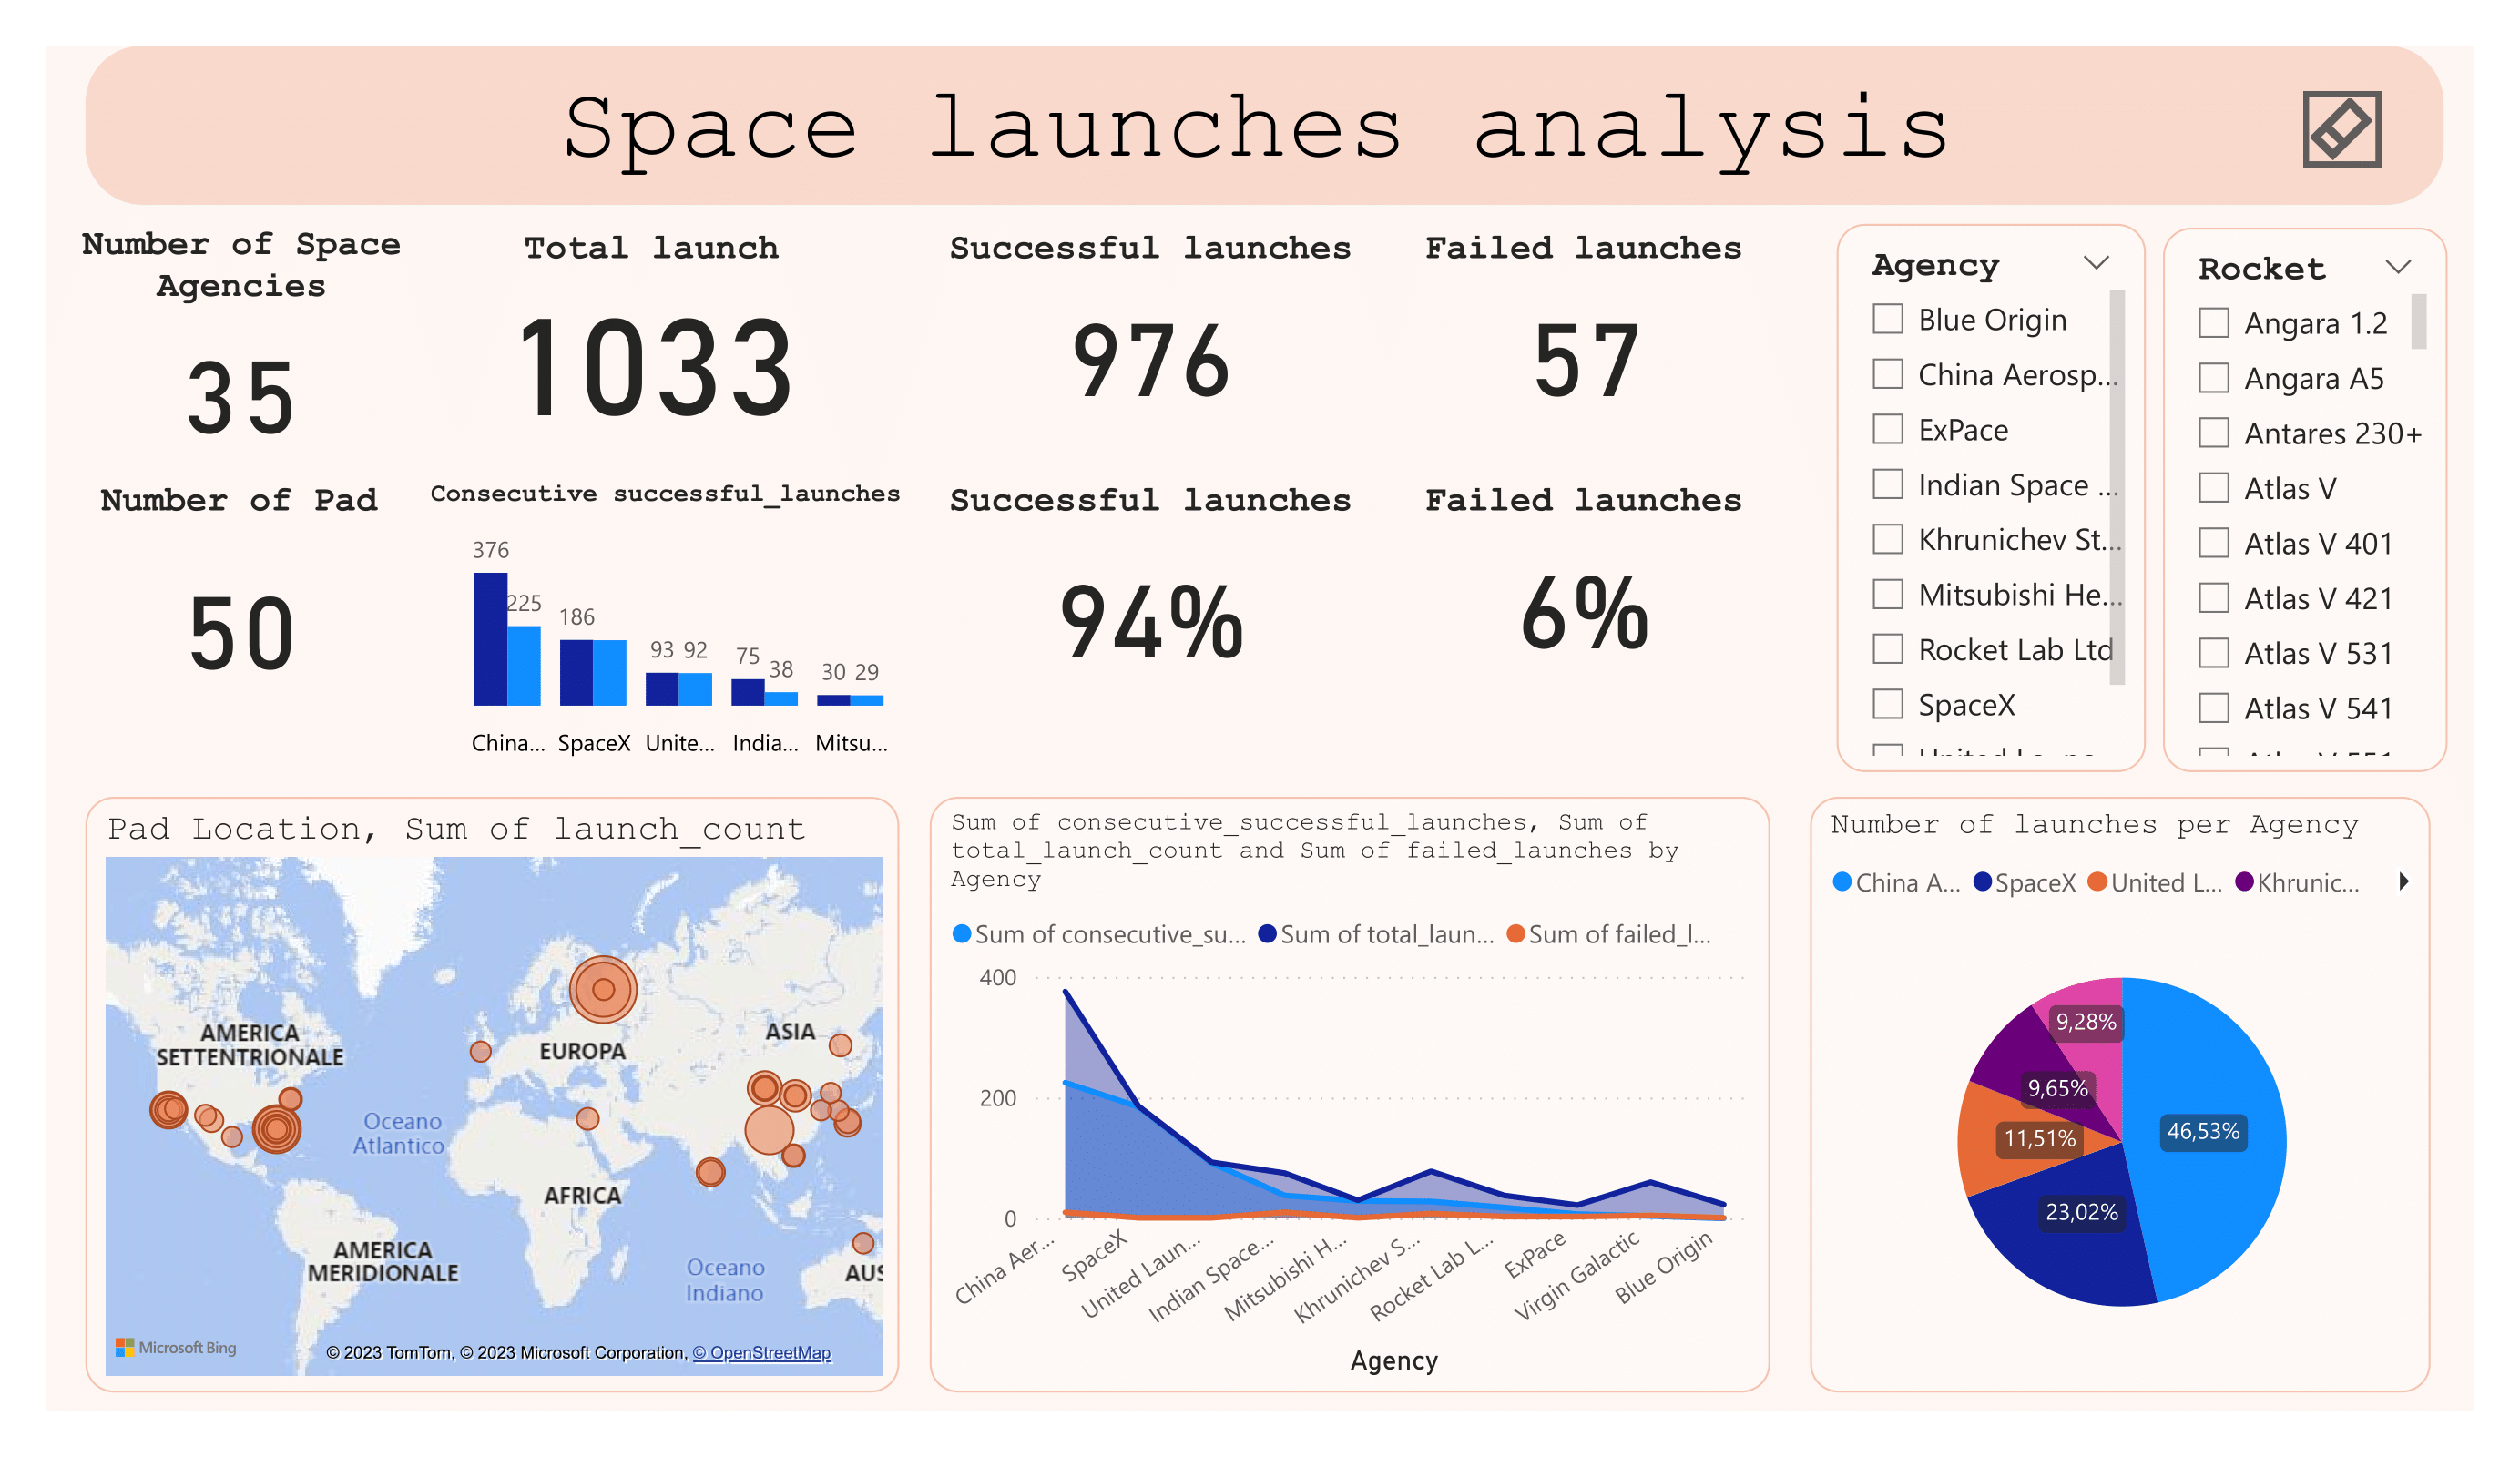

What the dashboard file says about the page in this screenshot:
{"tool":"powerbi","page":{"name":"Overview","canvas":[1280,720],"ordinal":0},"visuals":[{"type":"image","box":[1,0,1279,720],"z":0},{"type":"textbox","box":[220,15.7,840,70],"z":1000},{"type":"card","title":"Number of Space Agencies ","fields":{"Values":["Count(dm_agency.id)"]},"box":[1.4,114.3,201.4,127.1],"z":2000},{"type":"card","title":"Number of Pad","fields":{"Values":["CountNonNull(dm_pad.id)"]},"box":[1.4,241.4,201.4,127.1],"z":3000},{"type":"card","title":"Total launch","fields":{"Values":["Sum(dm_rocket.total_launch_count)"]},"box":[202.9,114.3,232.9,105.7],"z":4000},{"type":"card","title":"Successful launches","fields":{"Values":["Sum(dm_rocket.successful_launches)"]},"box":[465.7,114.3,232.9,105.7],"z":5000},{"type":"card","title":"Failed launches","fields":{"Values":["Sum(dm_rocket.failed_launches)"]},"box":[712.9,114.3,195.7,105.7],"z":6000},{"type":"slicer","fields":{"Values":["dm_rocket.family"]},"box":[1110,114.3,148.6,245.7],"z":7000},{"type":"slicer","fields":{"Values":["dm_agency.name"]},"box":[931.4,114.3,162.9,245.7],"z":8000},{"type":"card","title":"Successful launches","fields":{"Values":["dm_rocket.% Successful launches"]},"box":[465.7,237.1,232.9,114.3],"z":9000},{"type":"card","title":"Failed launches","fields":{"Values":["dm_rocket.% Failed launches"]},"box":[712.9,241.4,195.7,105.7],"z":10000},{"type":"areaChart","fields":{"Y":["Sum(KPI_For_Family.consecutive_successful_launches)","Sum(KPI_For_Family.total_launch_count)","Sum(KPI_For_Family.failed_launches)"],"Category":["dm_agency.name"]},"box":[465.7,395.7,442.9,314.3],"z":11000},{"type":"pieChart","title":"Number of launches per Agency","fields":{"Category":["dm_agency.name"],"Y":["Sum(dm_rocket.total_launch_count)"]},"box":[930,395.7,327.1,314.3],"z":12000},{"type":"map","title":"Pad Location, Sum of launch_count","fields":{"Y":["dm_pad.latitude"],"X":["dm_pad.longitude"],"Size":["Sum(dm_pad.total_launch_count)"]},"box":[20,395.7,428.6,314.3],"z":13000},{"type":"clusteredColumnChart","title":"Consecutive successful_launches","fields":{"Y":["Sum(dm_rocket.total_launch_count)","Sum(dm_rocket.consecutive_successful_launches)"],"Category":["dm_agency.name"]},"box":[202.9,237.1,262.9,144.3],"z":14000},{"type":"actionButton","box":[1218.7,29.3,39.1,40.3],"z":15000}]}

Visuals, with their boxes in screenshot pixels (x1, y1, x2, y2):
image: bbox(47, 46, 2474, 1411)
textbox: bbox(463, 76, 2057, 209)
"Number of Space Agencies " card: bbox(48, 262, 431, 504)
"Number of Pad" card: bbox(48, 504, 431, 745)
"Total launch" card: bbox(431, 262, 872, 463)
"Successful launches" card: bbox(929, 262, 1372, 463)
"Failed launches" card: bbox(1398, 262, 1770, 463)
slicer - dm_rocket.family: bbox(2152, 262, 2433, 728)
slicer - dm_agency.name: bbox(1813, 262, 2122, 728)
"Successful launches" card: bbox(929, 495, 1372, 712)
"Failed launches" card: bbox(1398, 504, 1770, 704)
areaChart - Sum(KPI_For_Family.consecutive_successful_launches) x Sum(KPI_For_Family.total_launch_count): bbox(929, 796, 1770, 1392)
"Number of launches per Agency" pieChart: bbox(1811, 796, 2431, 1392)
"Pad Location, Sum of launch_count" map: bbox(84, 796, 897, 1392)
"Consecutive successful_launches" clusteredColumnChart: bbox(431, 495, 930, 769)
actionButton: bbox(2358, 101, 2433, 178)
